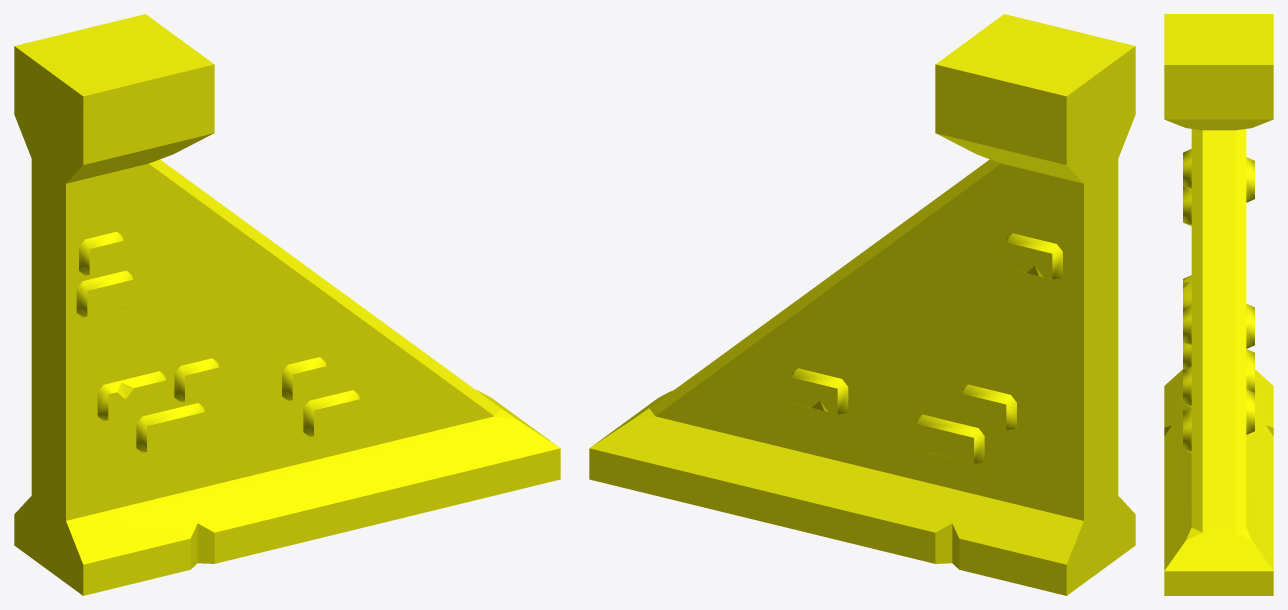
Rendered from kaykit-wall-sloped.glb.
3 renders of one model, left to right at view 1: azimuth 30°, elevation 25°; view 2: azimuth 150°, elevation 25°; view 3: azimuth 270°, elevation 25°, orthographic. The views are drawn at different scales.
Visible parts, largest first — view 1: wall_sloped; view 2: wall_sloped; view 3: wall_sloped.
Boxes of the visible parts, x1=… form: wall_sloped: x1=14, y1=14, x2=560, y2=595; wall_sloped: x1=589, y1=14, x2=1135, y2=595; wall_sloped: x1=1164, y1=14, x2=1273, y2=595.
Size of the model in its own units: 4 by 4 by 1.
